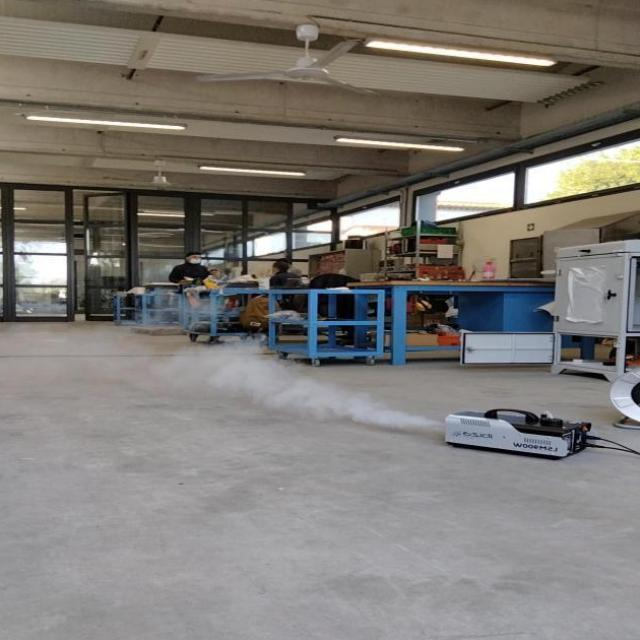fire: (166, 338, 440, 429)
